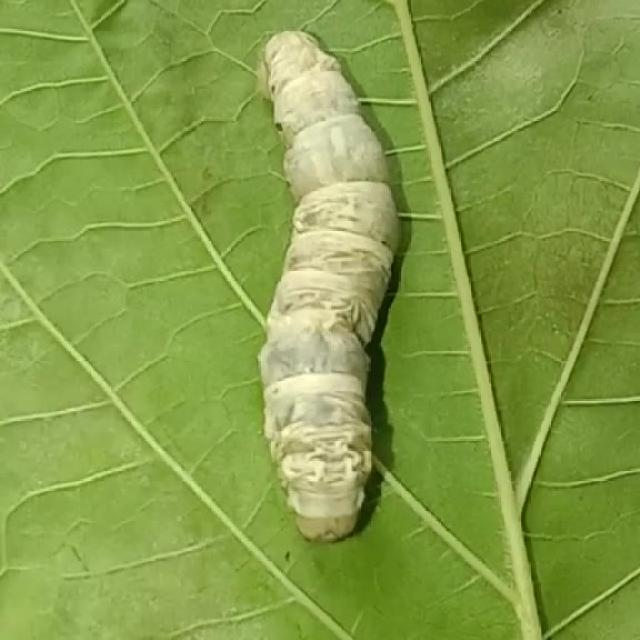Grasserie: (207, 12, 426, 560)
